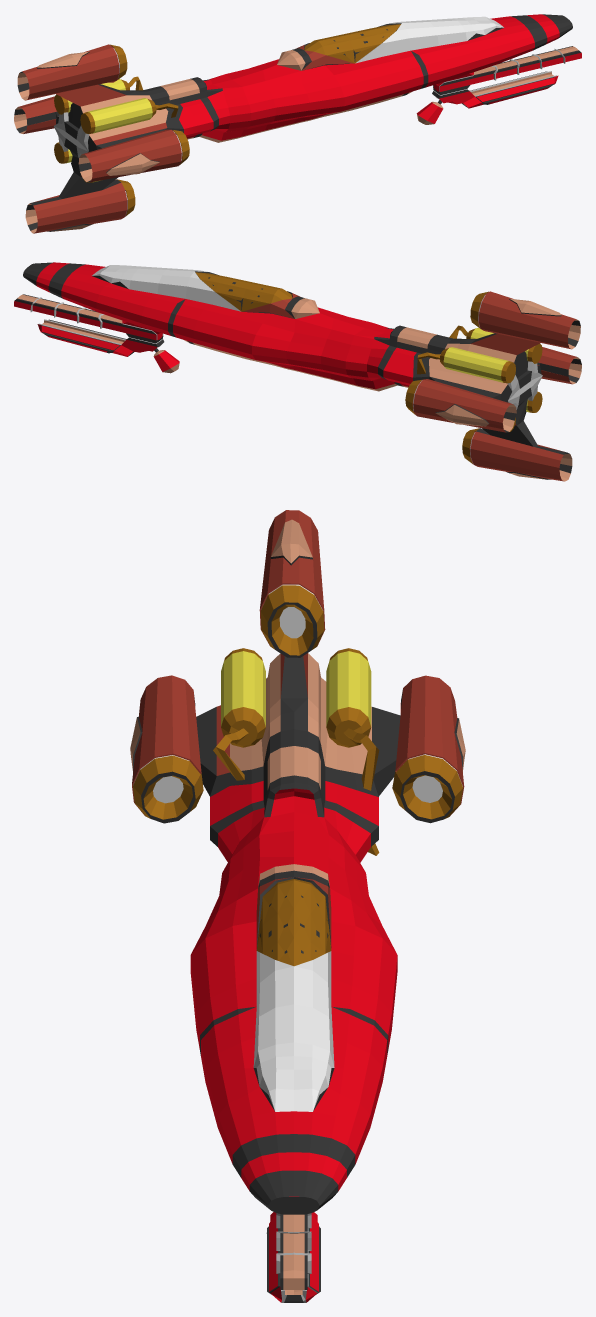
3 views of the same model, one above another, from view 1: azimuth 30°, elevation 25°; view 2: azimuth 150°, elevation 25°; view 3: azimuth 270°, elevation 25° (orthographic). The views are drawn at different scales.
Parts seen in each view (by area): view 1: WUPGBOOST; view 2: WUPGBOOST; view 3: WUPGBOOST.
Boxes of the visible parts, <box> form: WUPGBOOST: <box>14,14,581,233</box>; WUPGBOOST: <box>14,262,581,481</box>; WUPGBOOST: <box>130,510,465,1302</box>.
Bounding box in the file's own units: 481 × 144 × 126.
